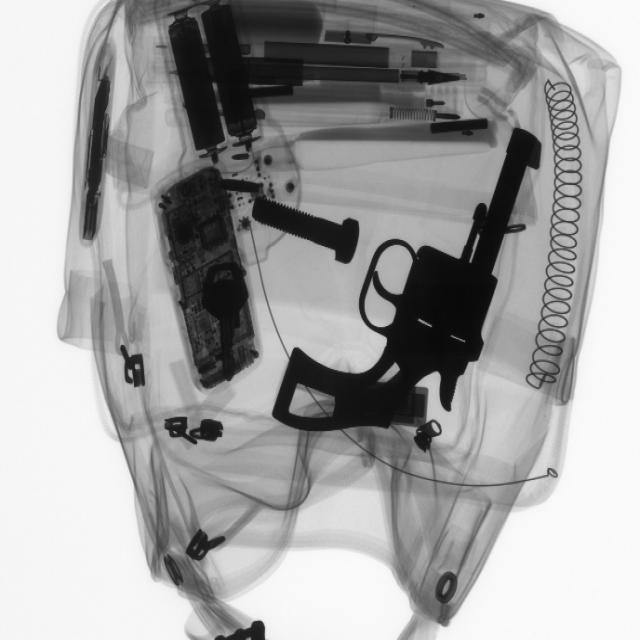GUN: (267, 132, 552, 435)
